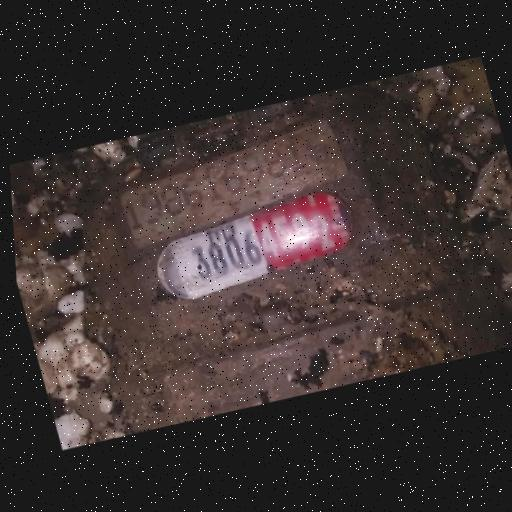0: (214, 218, 254, 285)
2: (298, 184, 355, 258)
3: (180, 230, 221, 297)
4: (246, 206, 287, 274)
5: (263, 201, 304, 269)
6: (230, 212, 271, 279)
8: (196, 224, 237, 291)
9: (281, 194, 323, 264)
border_water_meter_number: (140, 183, 367, 307)
